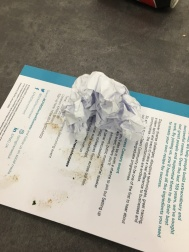paper_white: (43, 62, 155, 149)
